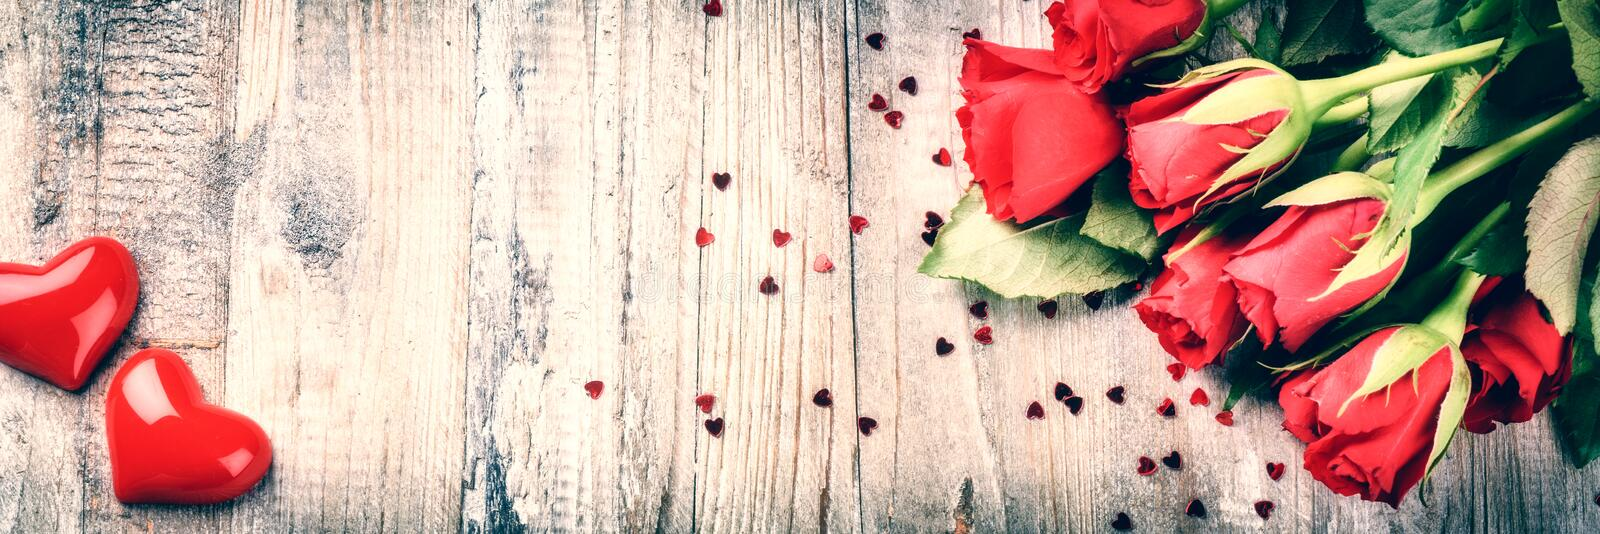RedRose: (1262, 301, 1474, 520), (928, 29, 1130, 235), (1213, 159, 1417, 344), (1104, 54, 1309, 225), (1462, 259, 1566, 431), (1130, 225, 1243, 373), (1021, 0, 1219, 82)
